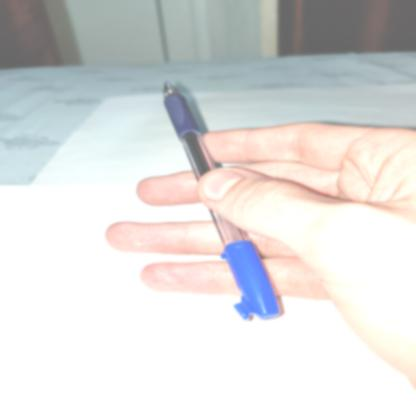Pen: (133, 73, 281, 320)
